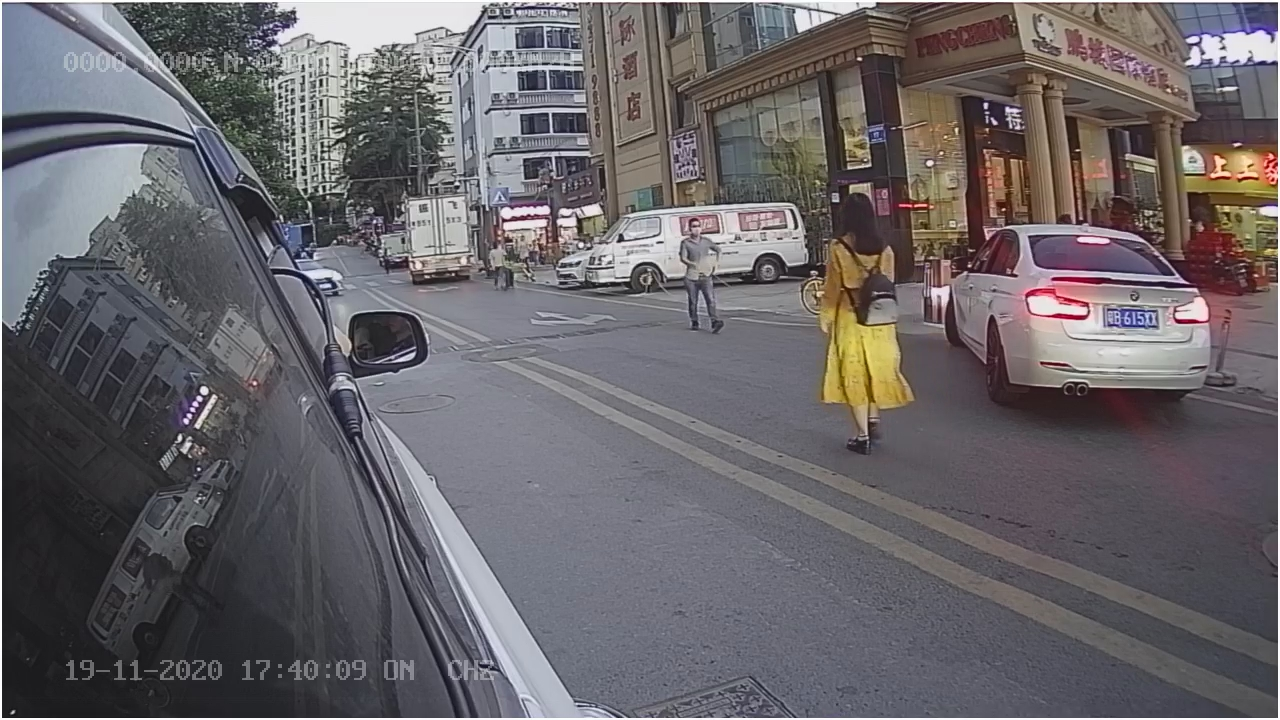person: (815, 188, 918, 448)
